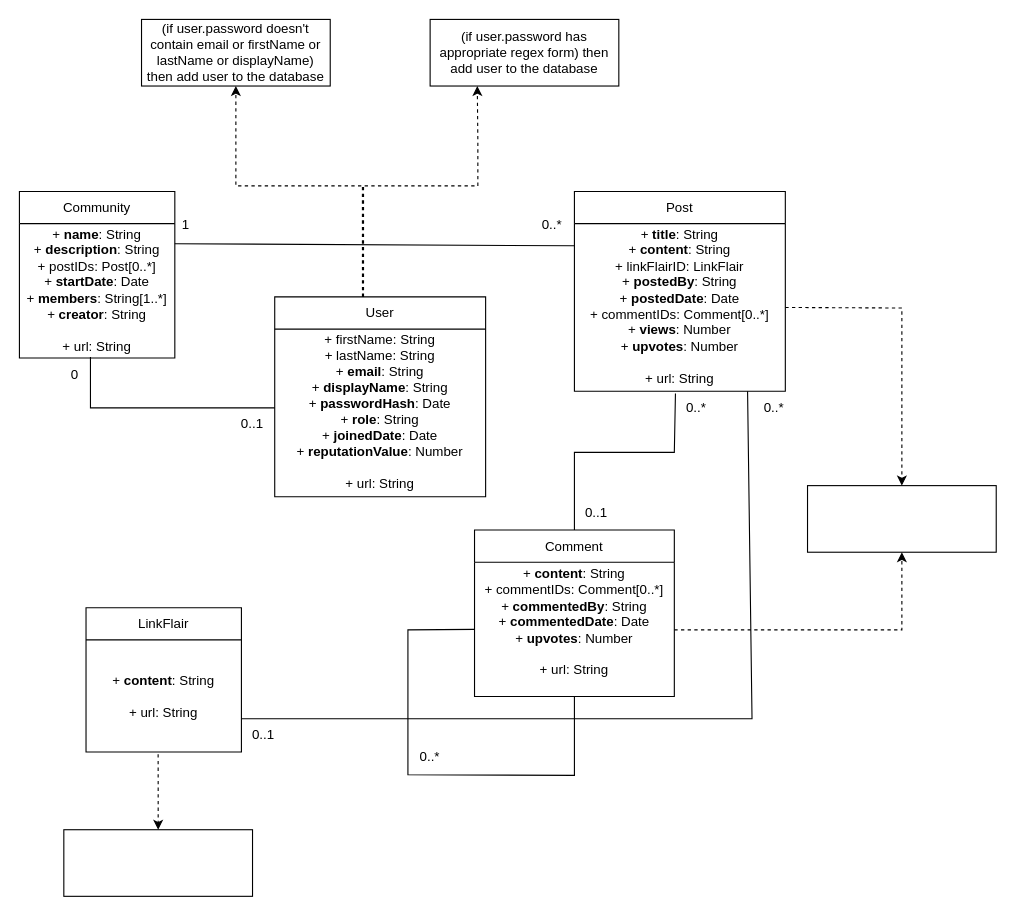
This 1016x916 diagram has some shape labels left out. Each missing label, with the centre of its shape:
if user.reputationValue >= 50 then upvote and downvote is allowed: (x=901, y=518)
LinkFlair is optional. Maximum length of the LinkFlair = 30 Characters: (x=158, y=862)
